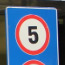speed_limit_5: (15, 14, 50, 56)
